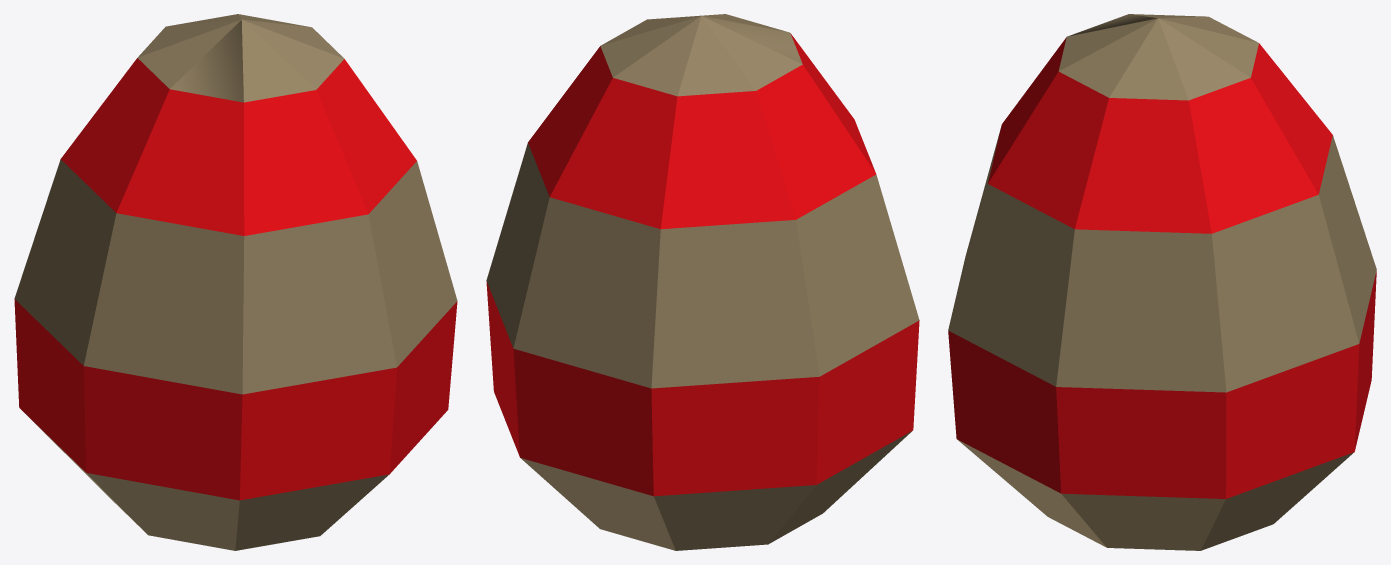
Rendered from huevo3.obj.
The picture shows the model from 3 angles, left to right: view 1: azimuth 30°, elevation 25°; view 2: azimuth 150°, elevation 25°; view 3: azimuth 270°, elevation 25°; orthographic projection.
Visible parts, largest first — view 1: Object_0.009; view 2: Object_0.009; view 3: Object_0.009.
Boxes of the visible parts, x1,y1,x2,y2 form: Object_0.009: (14, 14, 457, 550); Object_0.009: (486, 14, 919, 550); Object_0.009: (948, 14, 1376, 550).
Size of the model in its own units: 0.3904 by 0.5173 by 0.3904.
